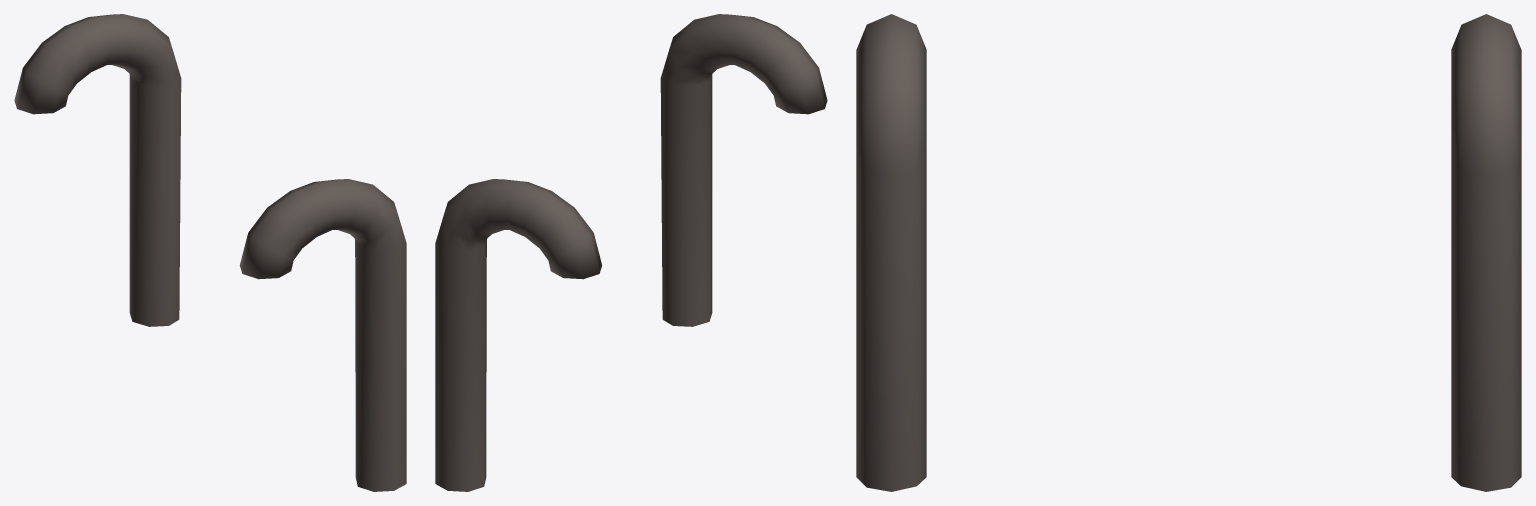
The model's file is SM_LadderTop.fbx.
The picture shows the model from 3 angles, left to right: view 1: azimuth 30°, elevation 25°; view 2: azimuth 150°, elevation 25°; view 3: azimuth 270°, elevation 25°; orthographic projection. The views are drawn at different scales.
Parts seen in each view (by area): view 1: LadderTop; view 2: LadderTop; view 3: LadderTop.
Boxes of the visible parts, x1,y1,x2,y2 form: LadderTop: [14, 14, 406, 491]; LadderTop: [435, 14, 827, 491]; LadderTop: [856, 14, 1521, 491].
Size of the model in its own units: 28 by 51.9 by 75.64.
